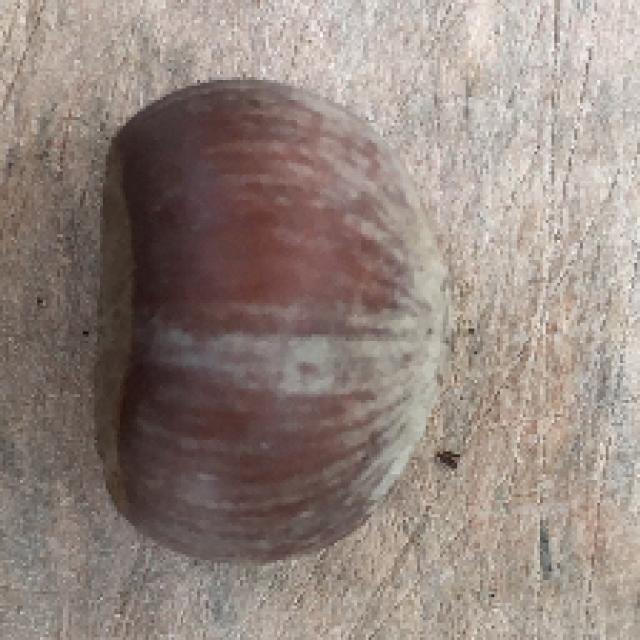DamagedHazelnut: (91, 78, 456, 570)
